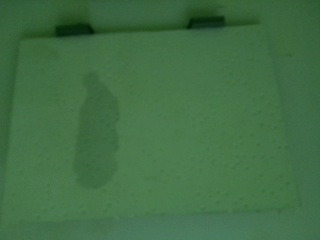Water_detected: (76, 88, 125, 183)
